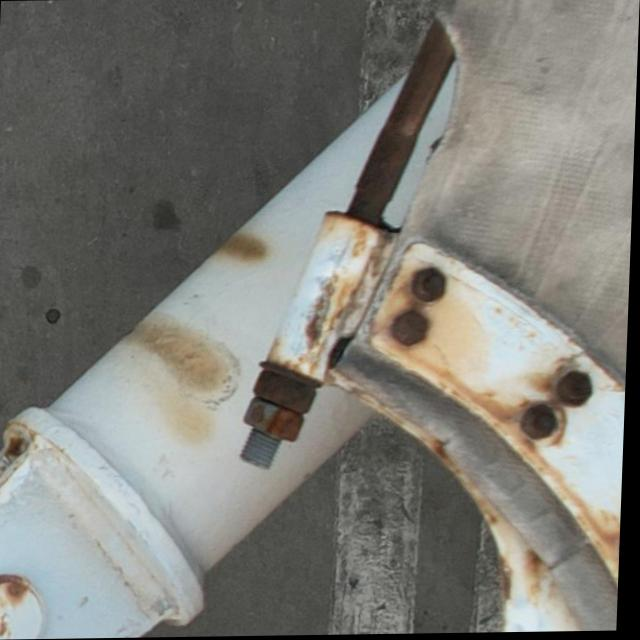Rusty bolt: (255, 370, 320, 413), (248, 399, 308, 444), (557, 373, 595, 409), (395, 312, 431, 348), (525, 407, 558, 441), (416, 269, 449, 302)
